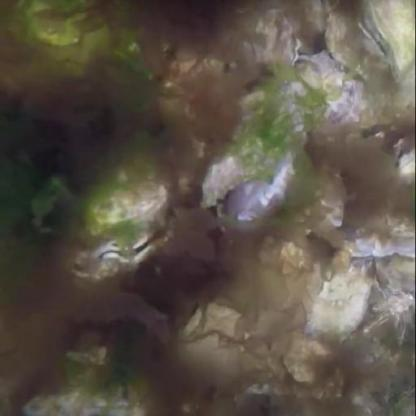3: (386, 125, 416, 188)
Oyster- Indeterminate: (63, 219, 183, 282)
Oyster-Closed: (200, 98, 301, 206), (356, 0, 416, 77), (308, 271, 373, 342), (19, 380, 144, 416), (83, 175, 166, 227)
